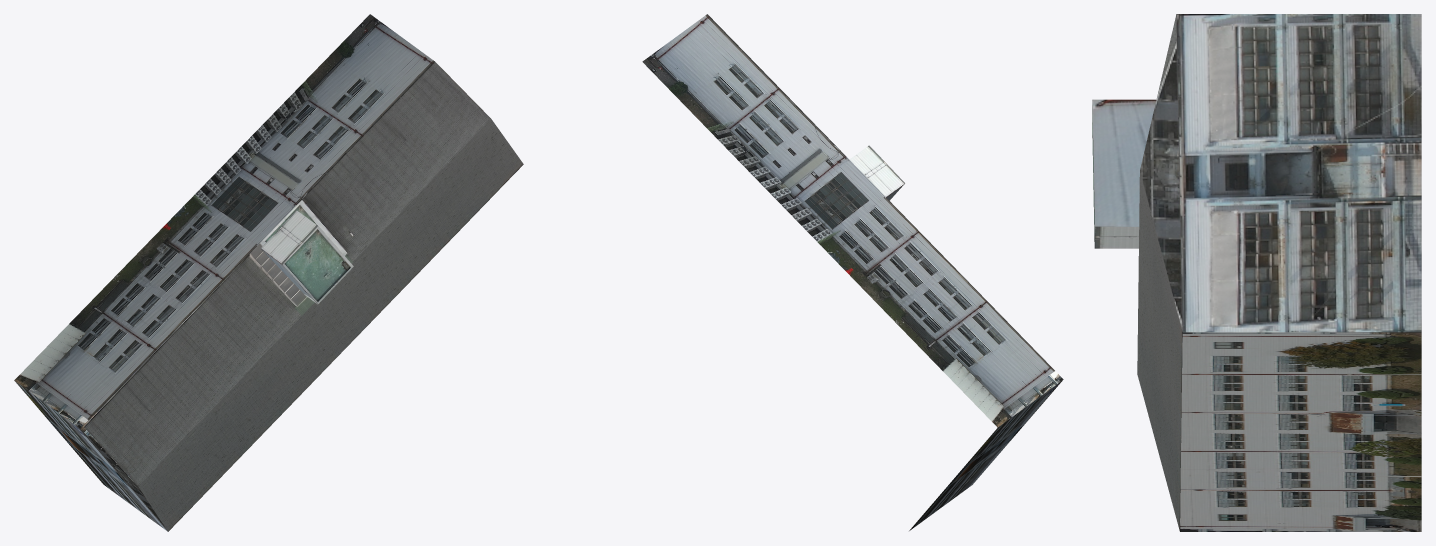
3 renders of one model, left to right at view 1: azimuth 30°, elevation 25°; view 2: azimuth 150°, elevation 25°; view 3: azimuth 270°, elevation 25°, orthographic. The views are drawn at different scales.
Visible parts, largest first — view 1: Node; view 2: Node; view 3: Node.
Part boxes in pixels (bbox=[...]): Node: bbox=[14, 14, 523, 531]; Node: bbox=[642, 14, 1063, 530]; Node: bbox=[1092, 14, 1421, 531].
Bounding box in the file's own units: 51.17 × 44.5 × 17.45.
1 material, 1 textured.
